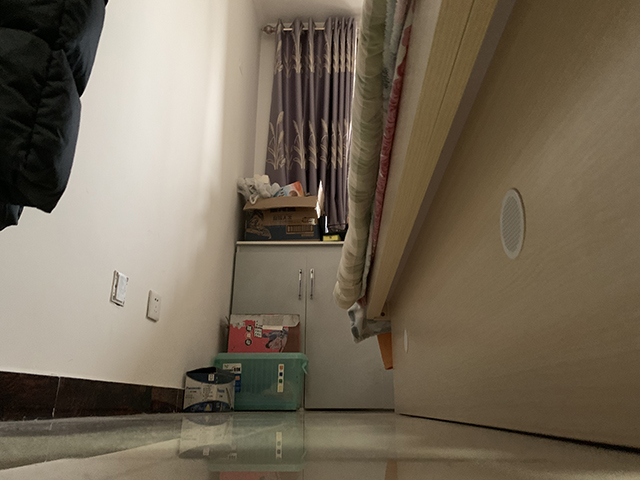bed: (332, 1, 640, 455)
cabinet: (228, 238, 396, 411)
